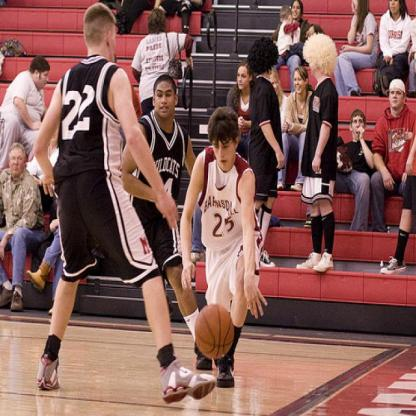basketball: (193, 305, 234, 361)
